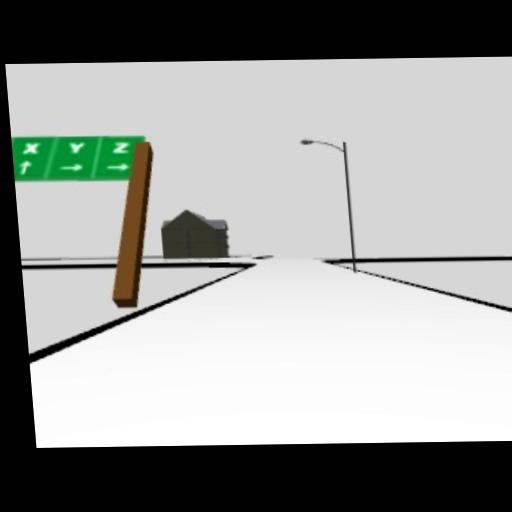Right: (57, 162, 85, 172), (106, 161, 129, 170)
Straight: (18, 160, 32, 174)
X: (23, 142, 40, 153)
Y: (68, 141, 85, 153)
Z: (111, 141, 130, 154)
